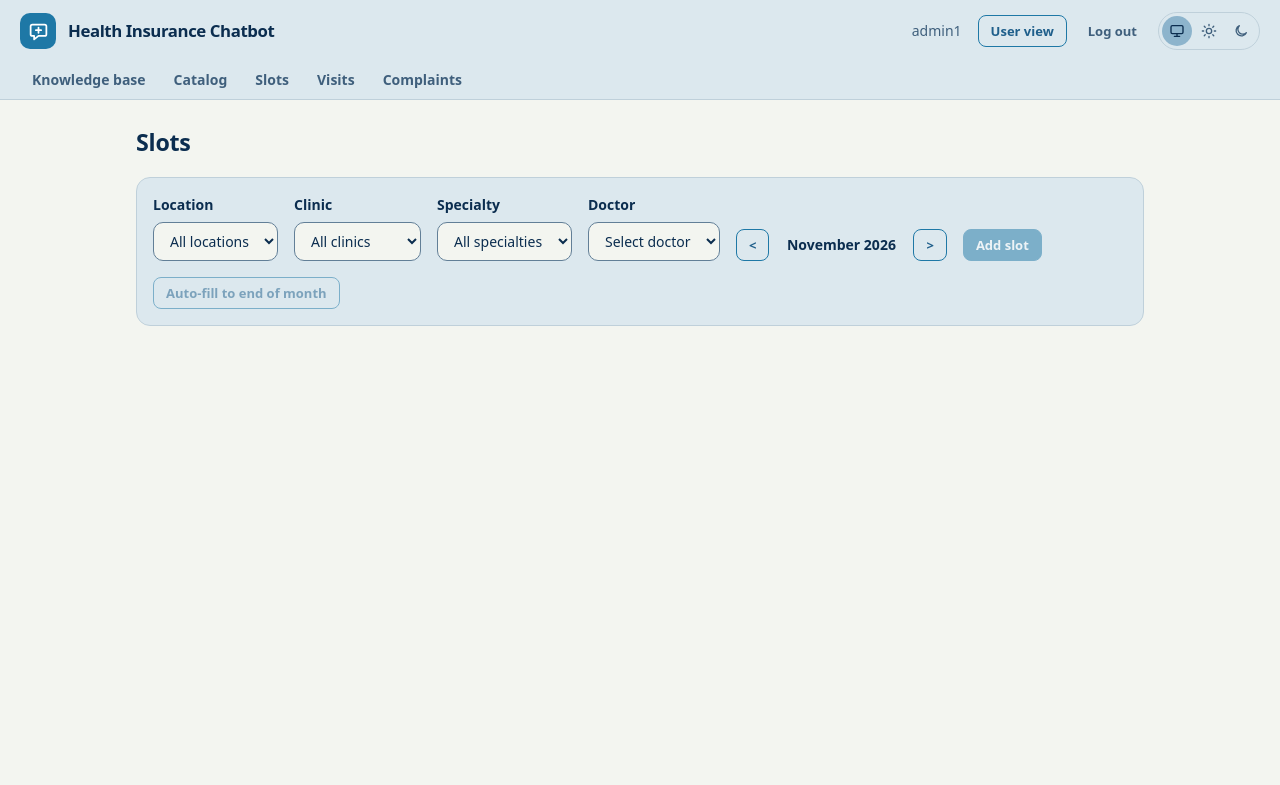
Test: AdminSlotsPage › C3: shows add slot dialog error on duplicate
Step 1. Select "Dr. Sara" in the dropdown with test id "doctor-select" → (654, 241), box [588,222,720,261]
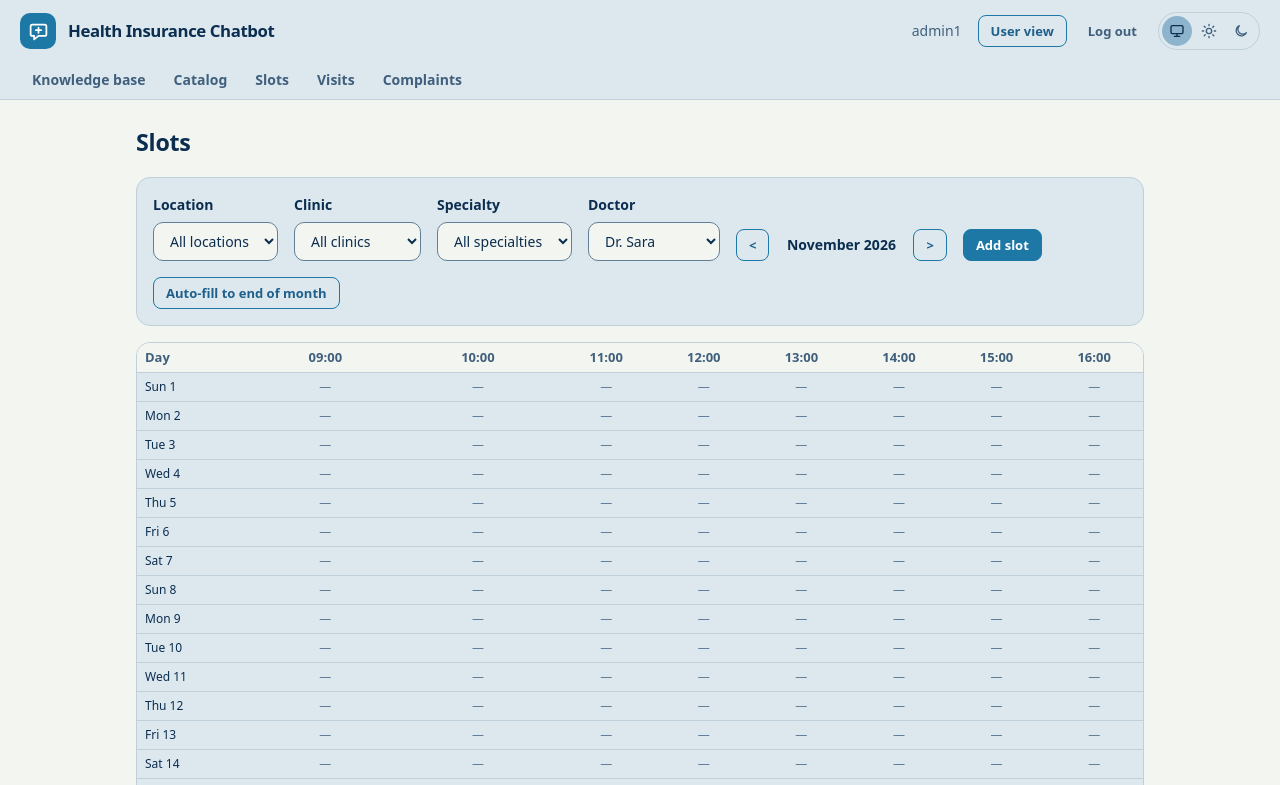
Step 2. Click the button "Add slot" → (1002, 245), box [963,228,1042,261]
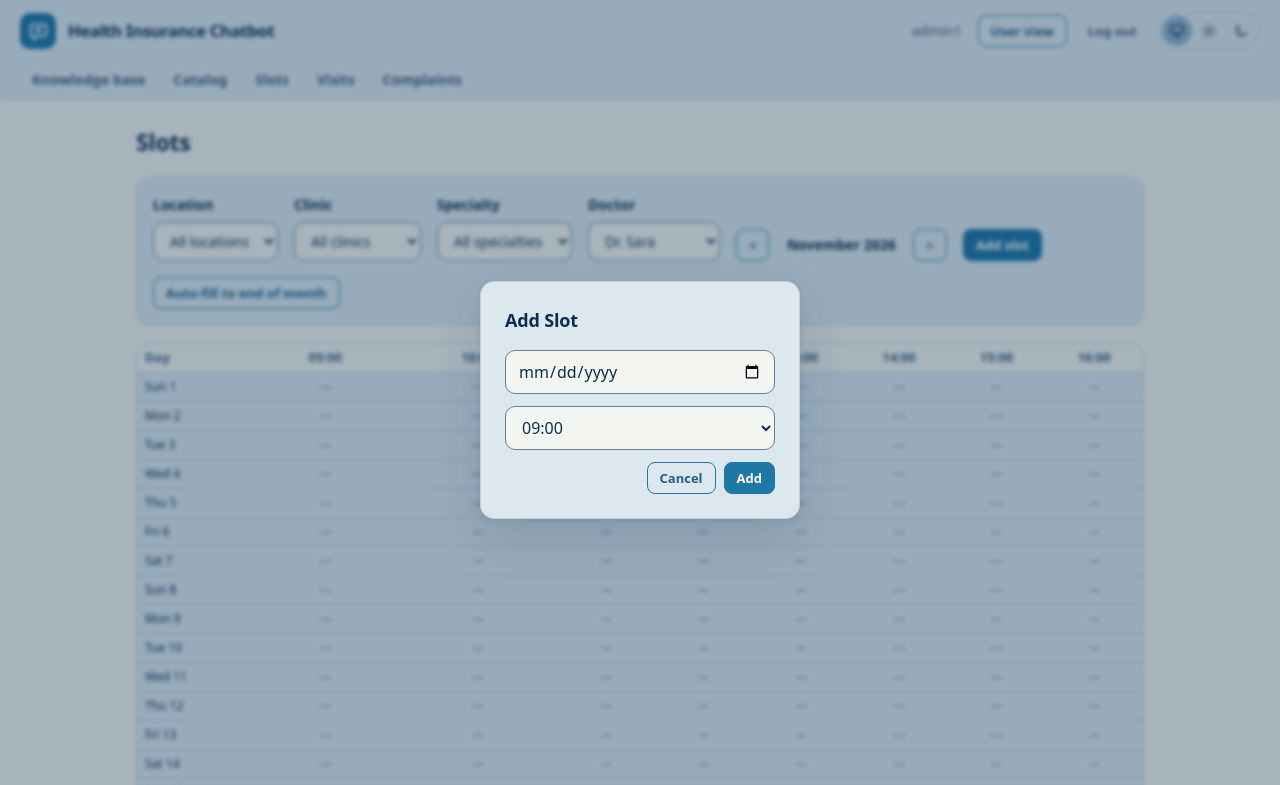
Step 3. Type "2026-12-01" into the date field with test id "slot-date-input" → (640, 372), box [505,350,775,394]
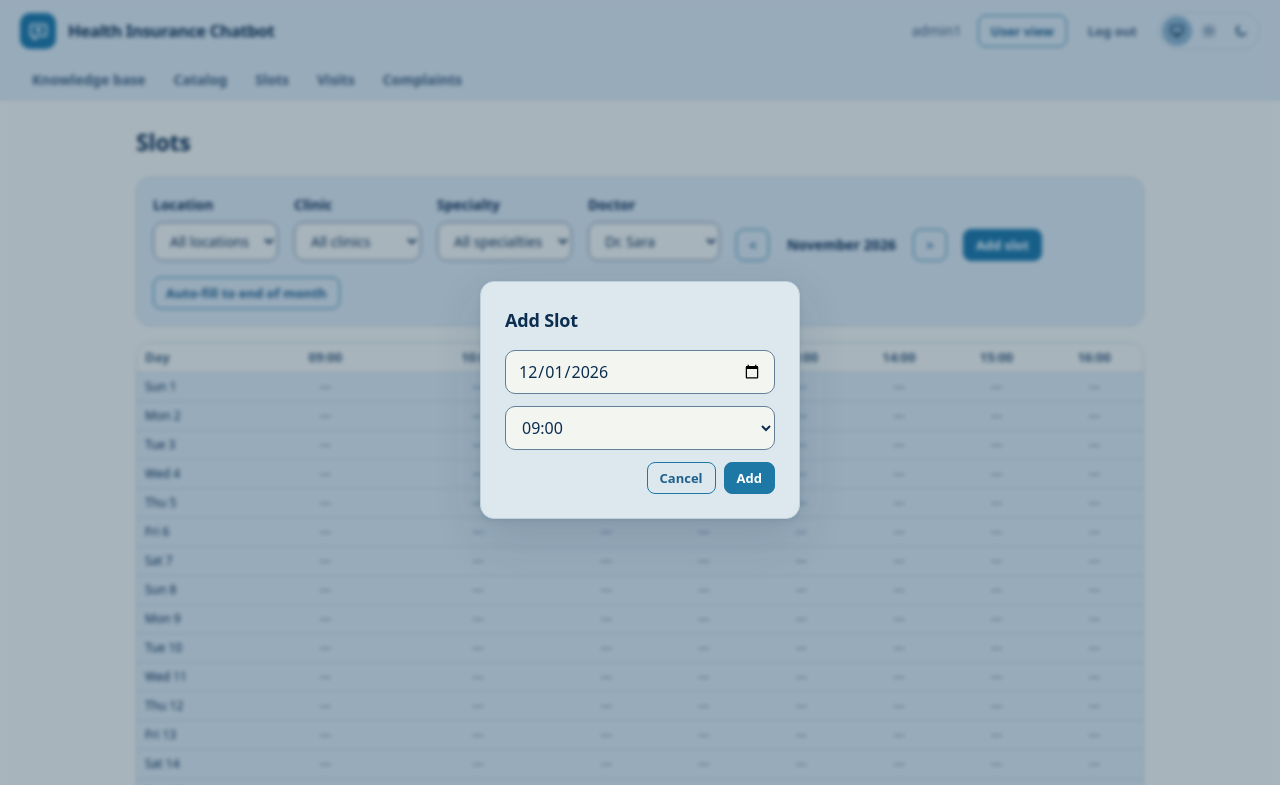
Step 4. Submit the form with test id "slot-date-input", box [505,350,775,494]
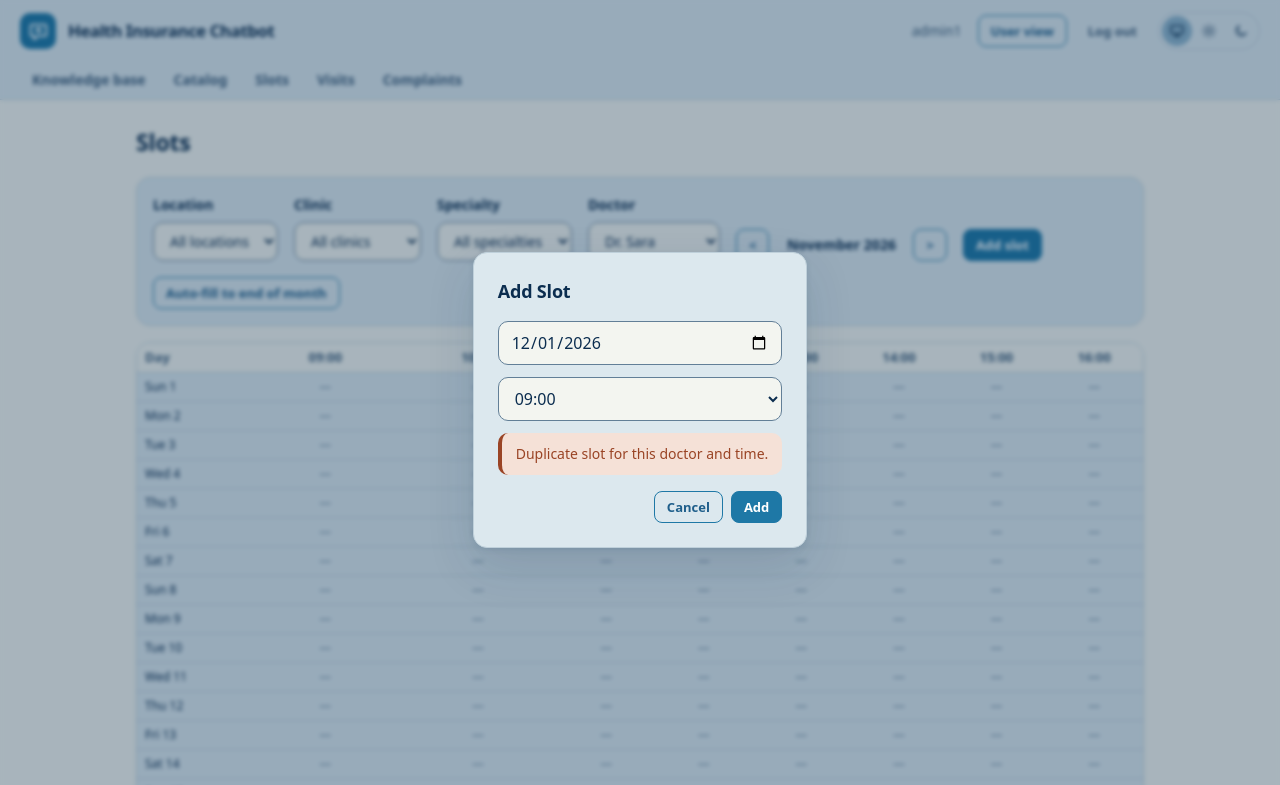
Check: the text with test id "slot-form-error" shows "Duplicate", box [516,444,768,464]
